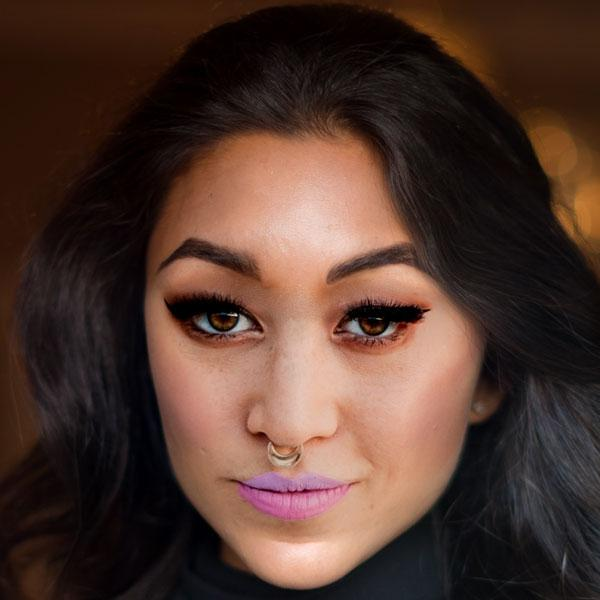Eyes: (156, 280, 267, 349), (318, 292, 432, 354)
